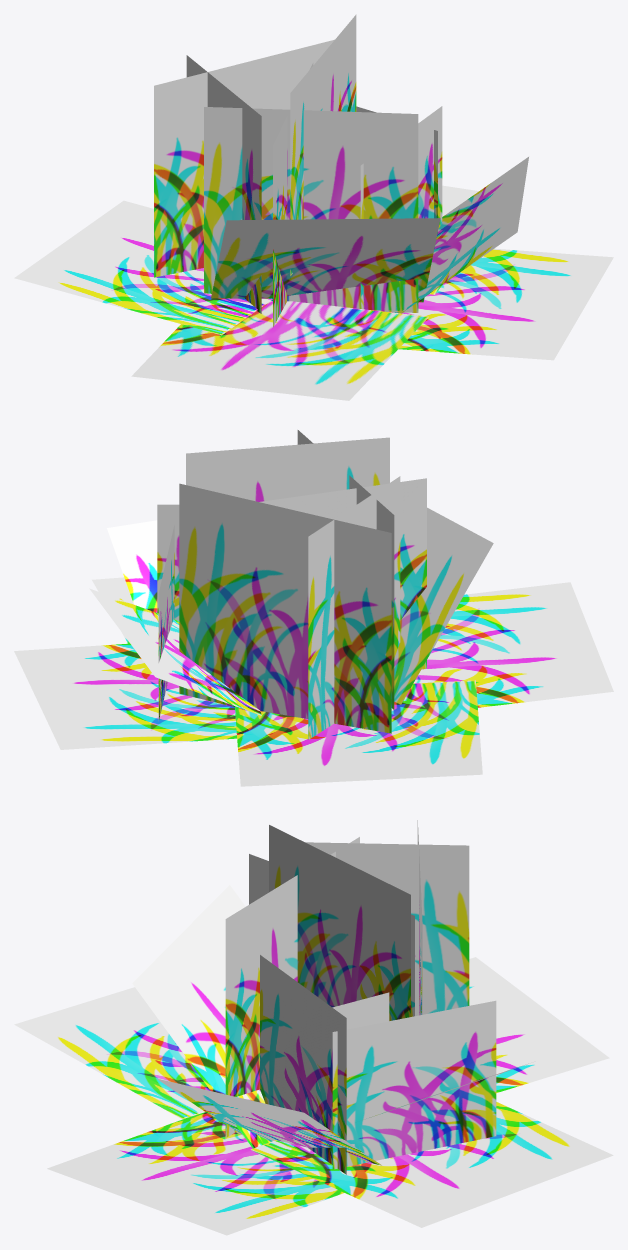
Rendered from Foliage.fbx.
3 views of the same model, one above another, from view 1: azimuth 30°, elevation 25°; view 2: azimuth 150°, elevation 25°; view 3: azimuth 270°, elevation 25° (orthographic). The views are drawn at different scales.
Parts seen in each view (by area): view 1: Plane.045; view 2: Plane.045; view 3: Plane.045.
Boxes of the visible parts, box(x1,y1,x2,y2) form: Plane.045: box(14, 14, 613, 400); Plane.045: box(14, 430, 613, 786); Plane.045: box(14, 820, 613, 1235).
Size of the model in its own units: 233 by 116 by 224.
